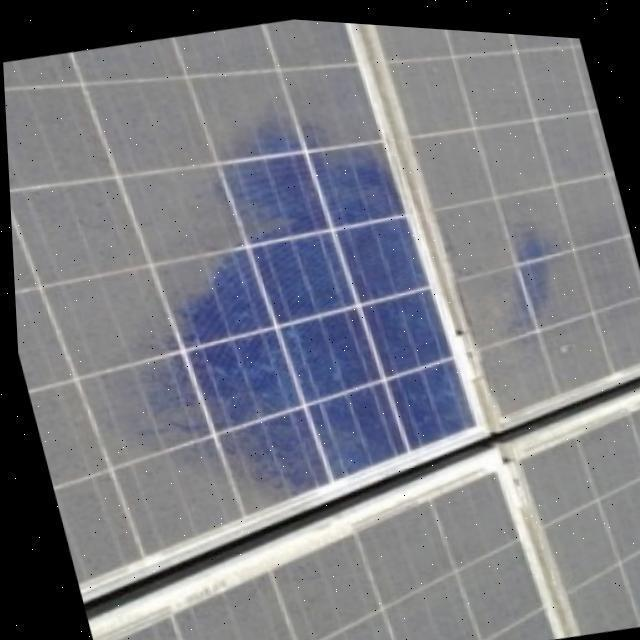Surface Contaminant: (2, 15, 385, 593), (370, 19, 640, 415), (84, 444, 562, 640), (503, 376, 640, 628)
